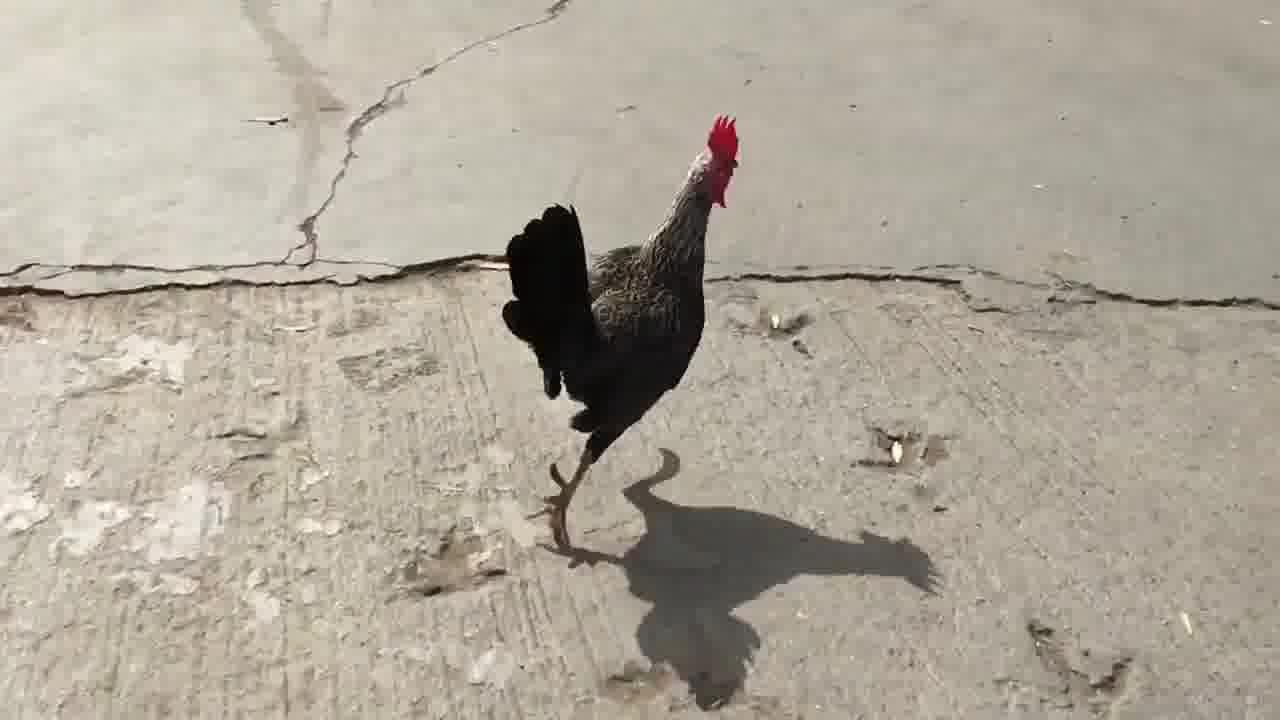Normal: (498, 104, 774, 538)
